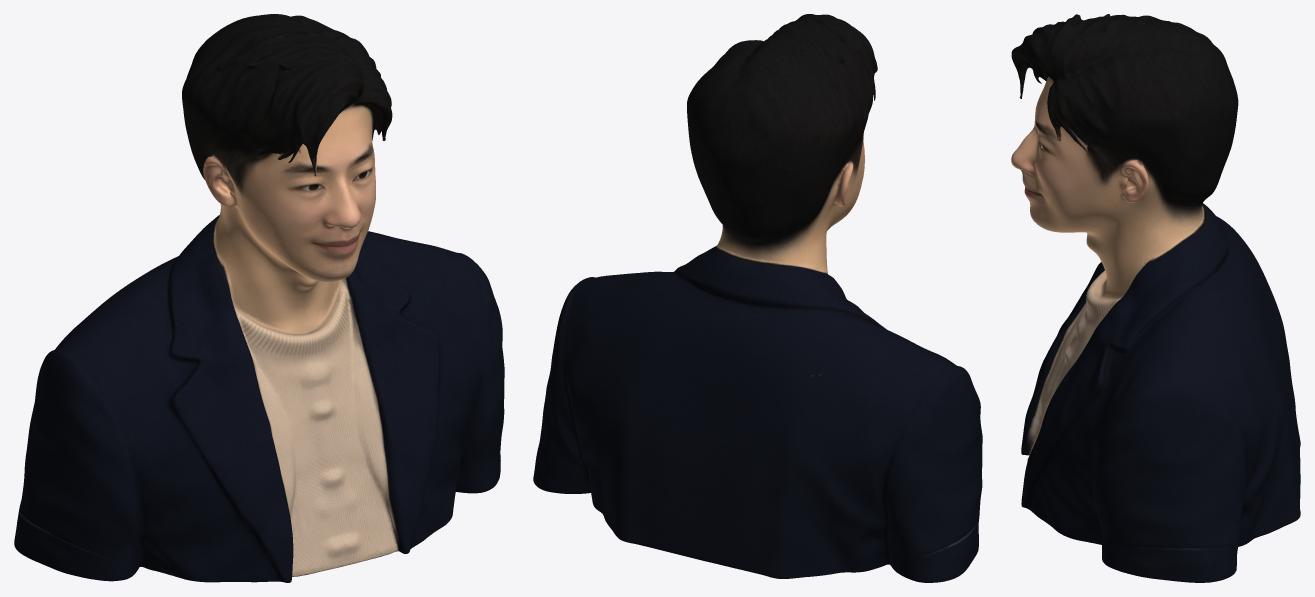
File: male.glb
3 renders of one model, left to right at view 1: azimuth 30°, elevation 25°; view 2: azimuth 150°, elevation 25°; view 3: azimuth 270°, elevation 25°, orthographic. The views are drawn at different scales.
Parts seen in each view (by area): view 1: mesh_node; view 2: mesh_node; view 3: mesh_node.
Part boxes in pixels (left/top/right/bottom): mesh_node: left=14, top=14, right=504, bottom=582; mesh_node: left=533, top=14, right=982, bottom=582; mesh_node: left=1011, top=14, right=1300, bottom=582.
Size of the model in its own units: 1.82 by 1.9 by 1.08.
1 material, 1 textured.
